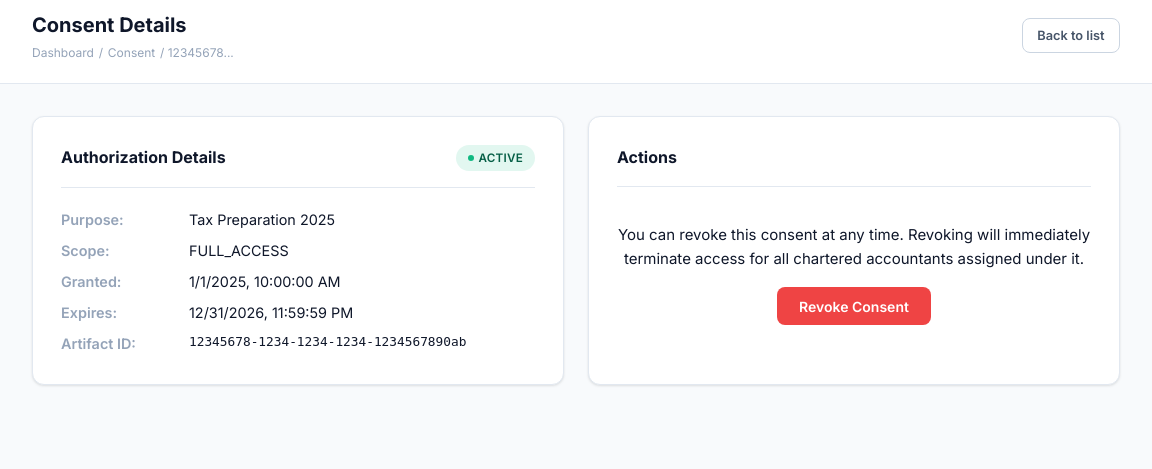
Scenario: Consent Management Workspace › ConsentDetail Component › executes revocation flow successfully
Note: Click revoke button to show confirmation form
Click the button with test id "revoke-btn" at (854, 306), box [777,287,931,325]
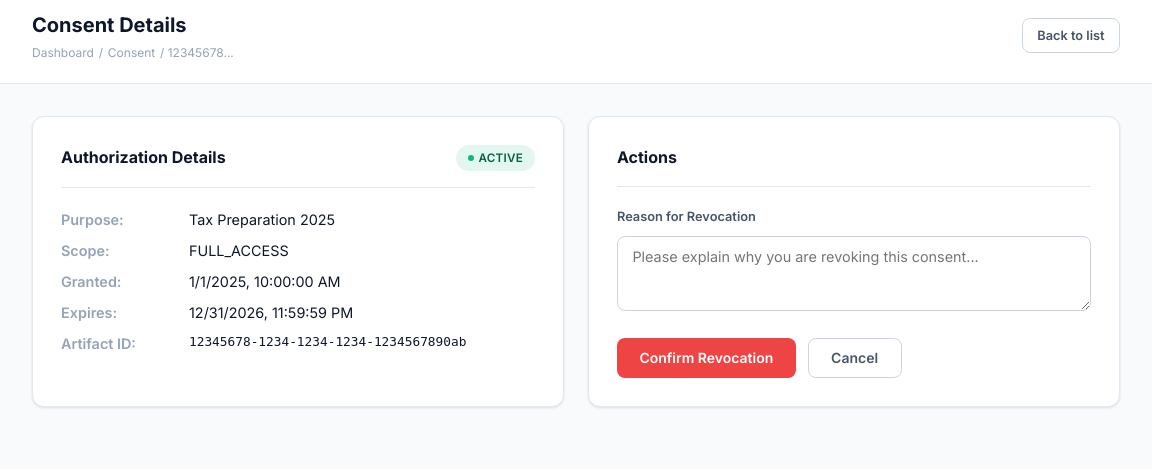
Check: the form with test id "revoke-form" is shown, box [617,207,1091,378]
Note: Fill and submit revocation reason
Type "Revoking due to audit completion" into the text box with test id "revocation-reason-input" at (854, 273), box [617,236,1091,311]
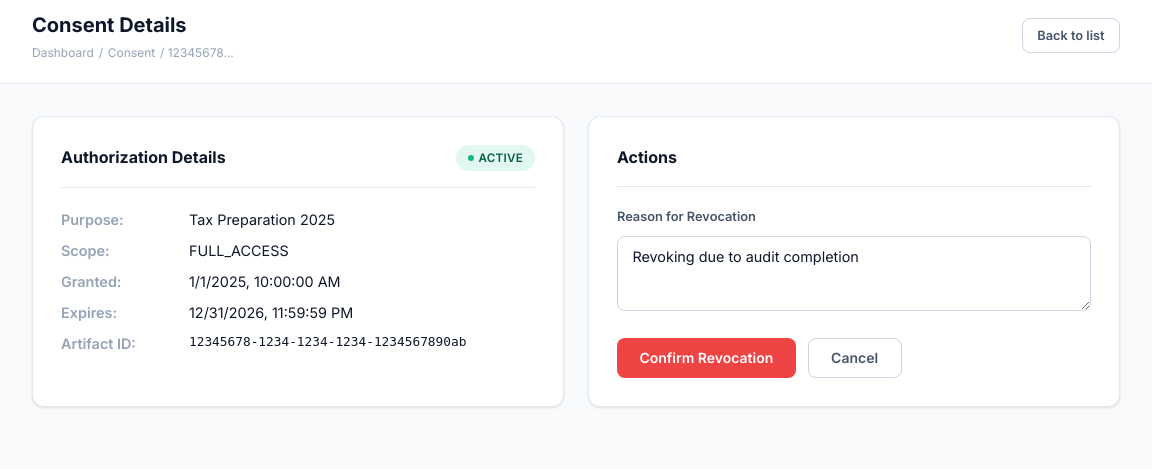
Click the button with test id "confirm-revoke-btn" at (706, 358), box [617,338,796,378]
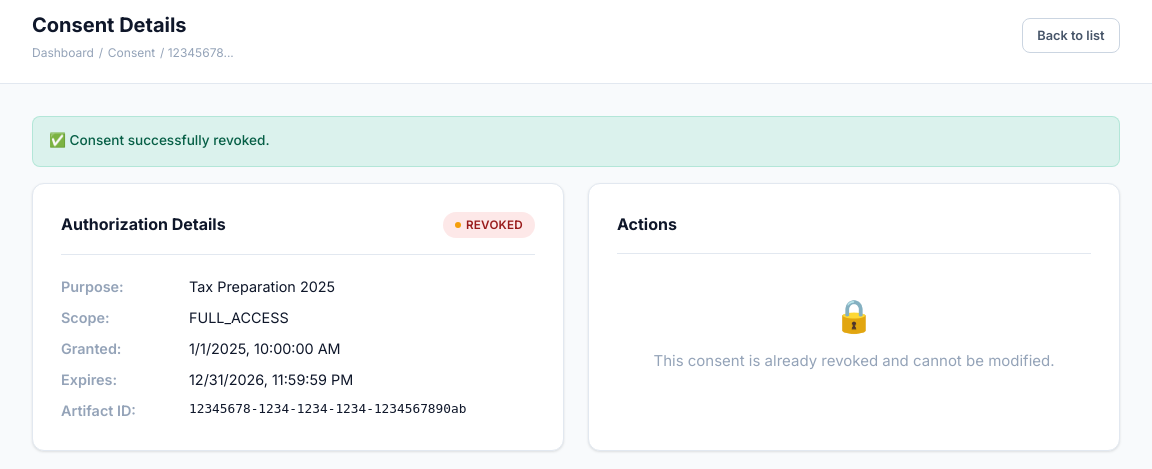
Check: the text with test id "success-alert" shows "Consent successfully revoked.", box [70,132,270,148]
